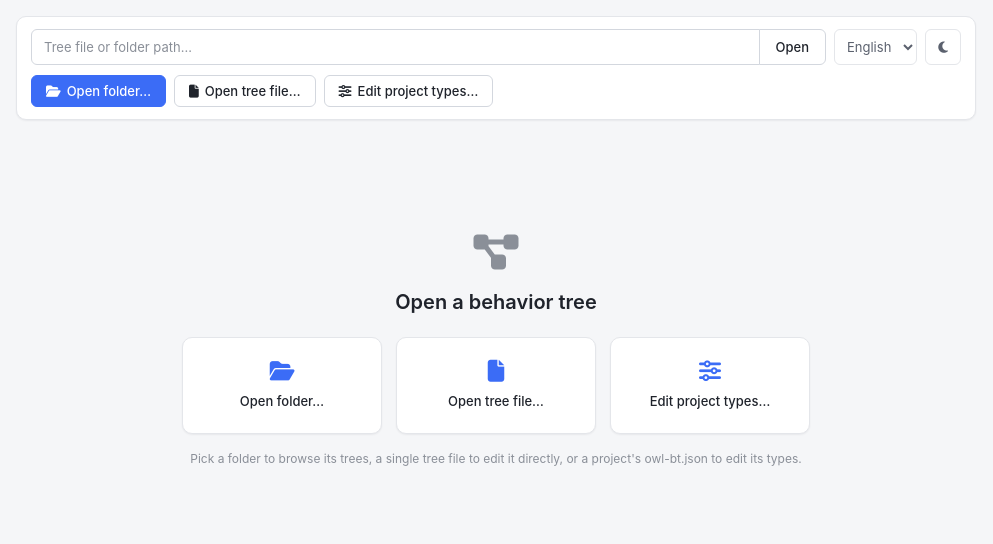
Test: Home › Open folder › shows an inline message telling the user to type the path when no dialog exists
Click the 1st button "Open folder…": (98, 91) [31,75,166,107]
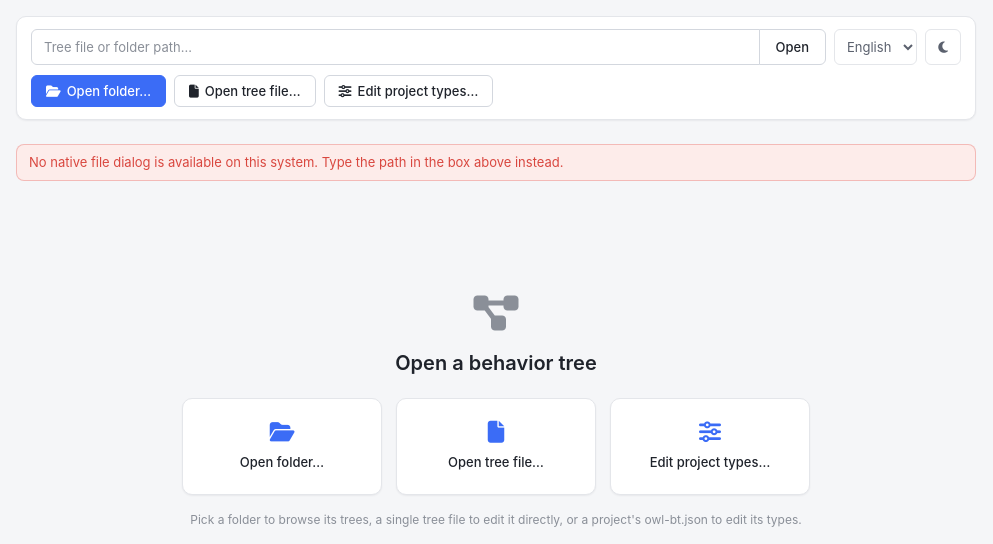
Expected: the text "No native file dialog is available on this system. Type the path in the box above instead." is shown, [29,154,564,170]
